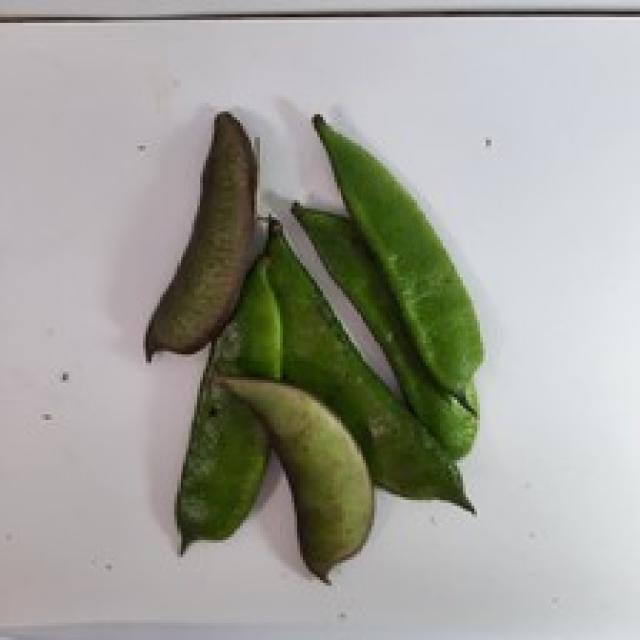Bean: (143, 109, 483, 580), (308, 111, 483, 400), (212, 371, 374, 583), (143, 109, 257, 360)
